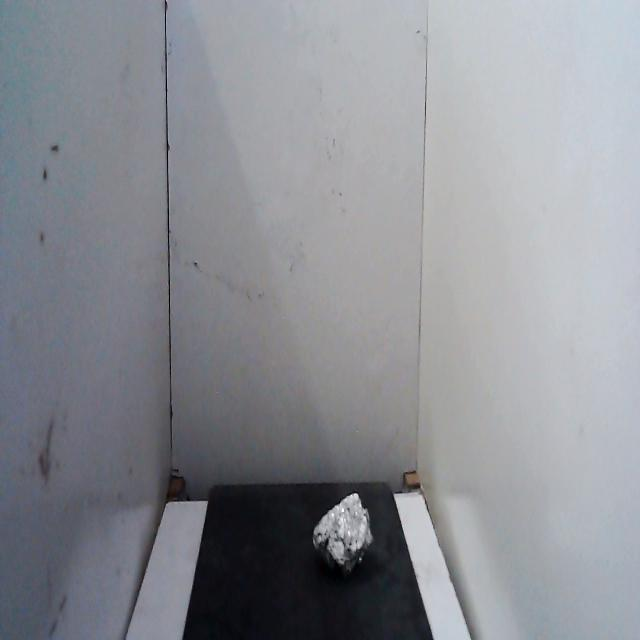metal: (308, 484, 378, 584)
